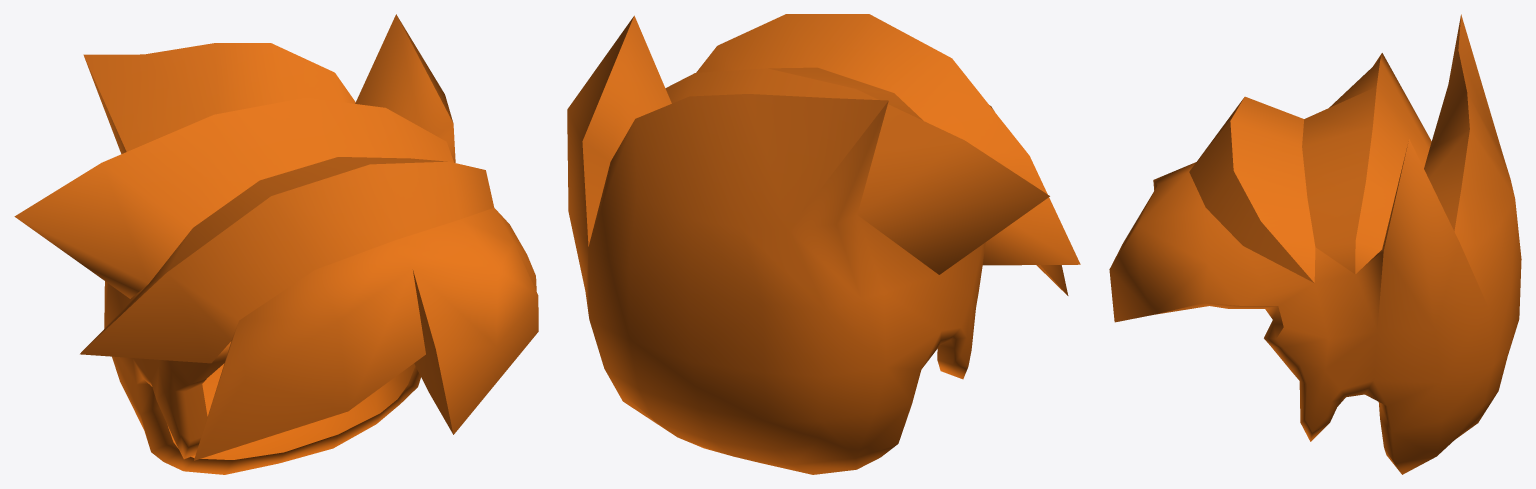
Rendered from Hair_Orange_14.fbx.
3 renders of one model, left to right at view 1: azimuth 30°, elevation 25°; view 2: azimuth 150°, elevation 25°; view 3: azimuth 270°, elevation 25°, orthographic. The views are drawn at different scales.
Parts seen in each view (by area): view 1: Hair_Orange_14; view 2: Hair_Orange_14; view 3: Hair_Orange_14.
Part boxes in pixels (bbox=[...]): Hair_Orange_14: bbox=[14, 14, 538, 474]; Hair_Orange_14: bbox=[567, 14, 1080, 474]; Hair_Orange_14: bbox=[1109, 14, 1521, 474].
Bounding box in the file's own units: 72.54 × 64.55 × 65.91.
